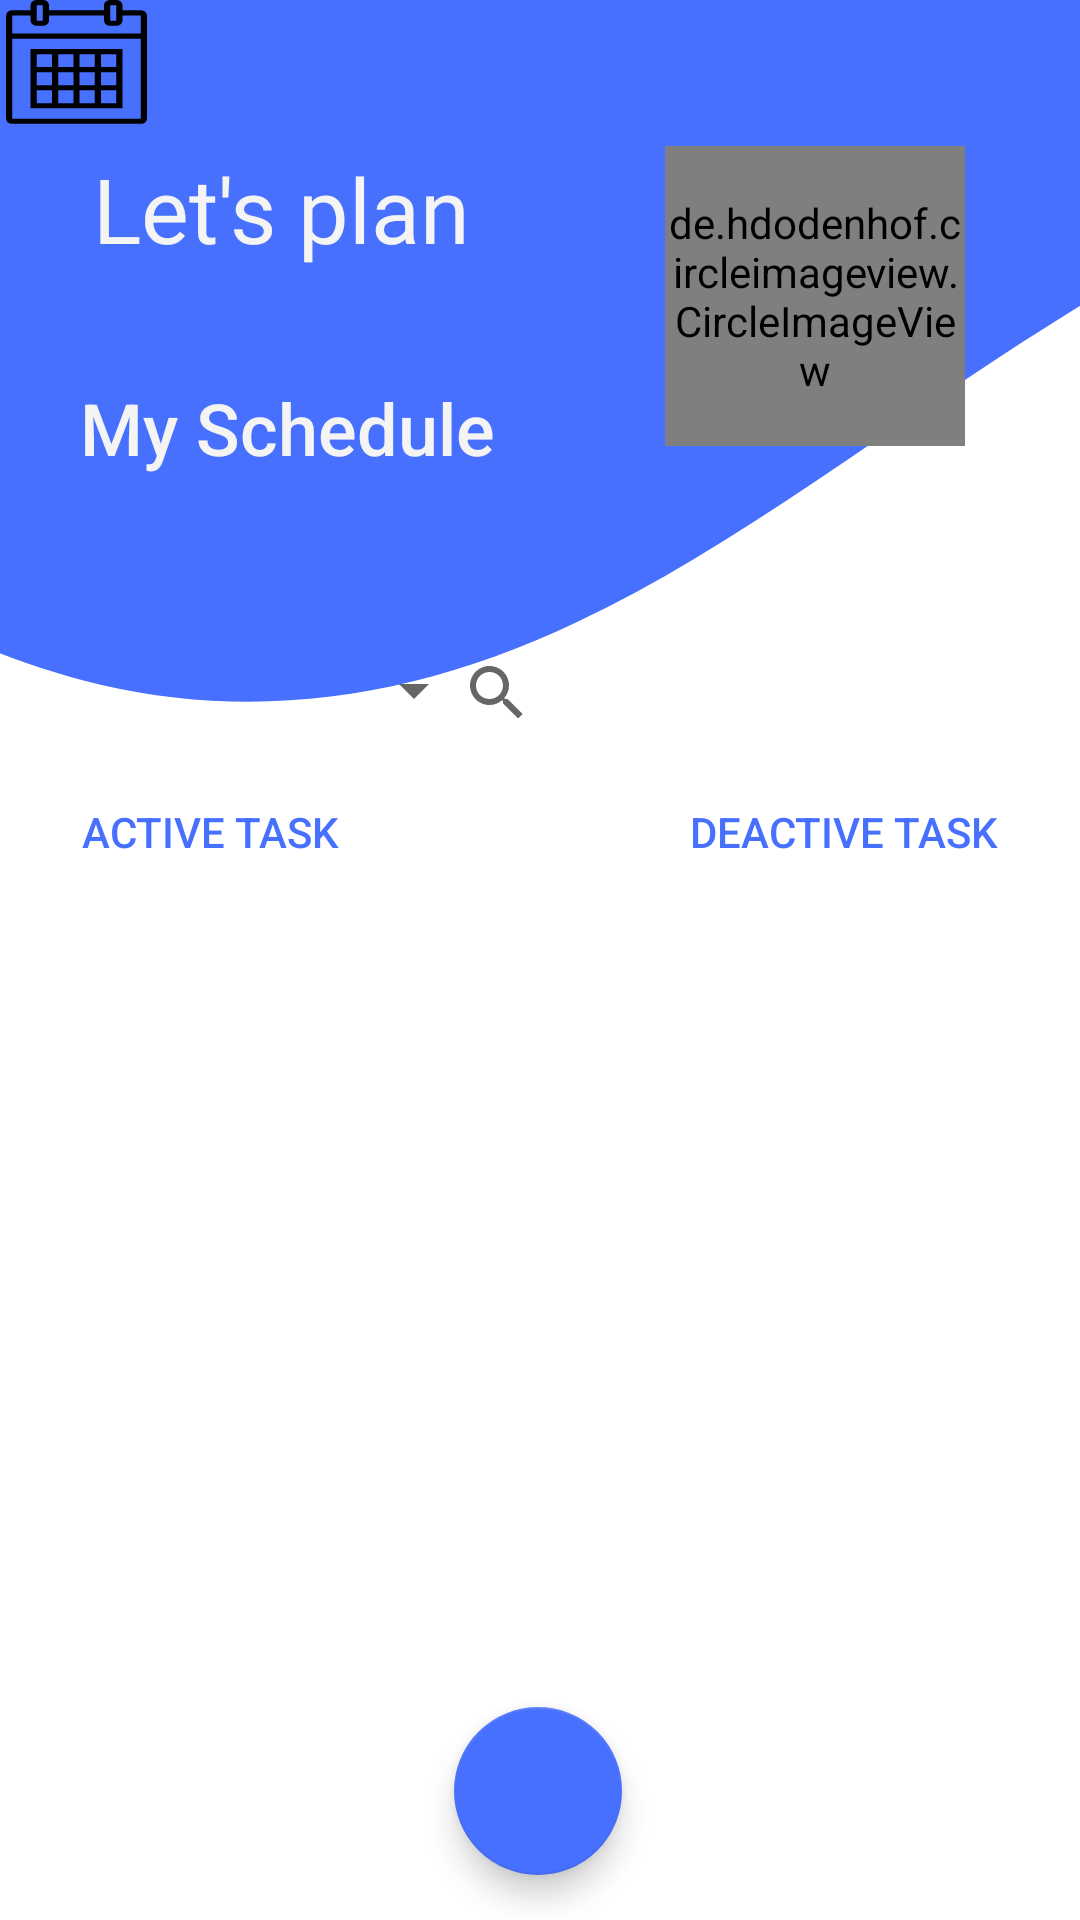

Icon click points for this 1080 × 1920 phone screenshot, format (x,y):
calendar: (76,62)
